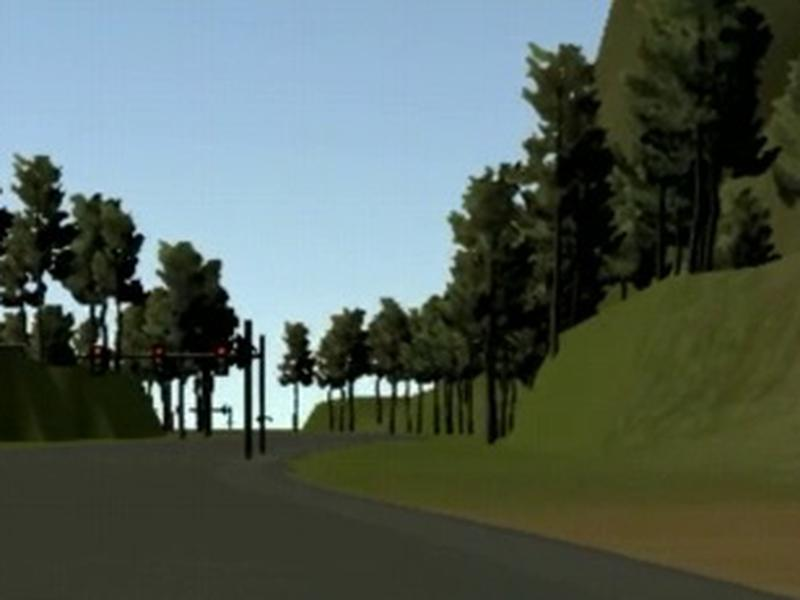Red: (91, 345, 103, 377), (215, 347, 228, 376), (151, 345, 164, 372)
